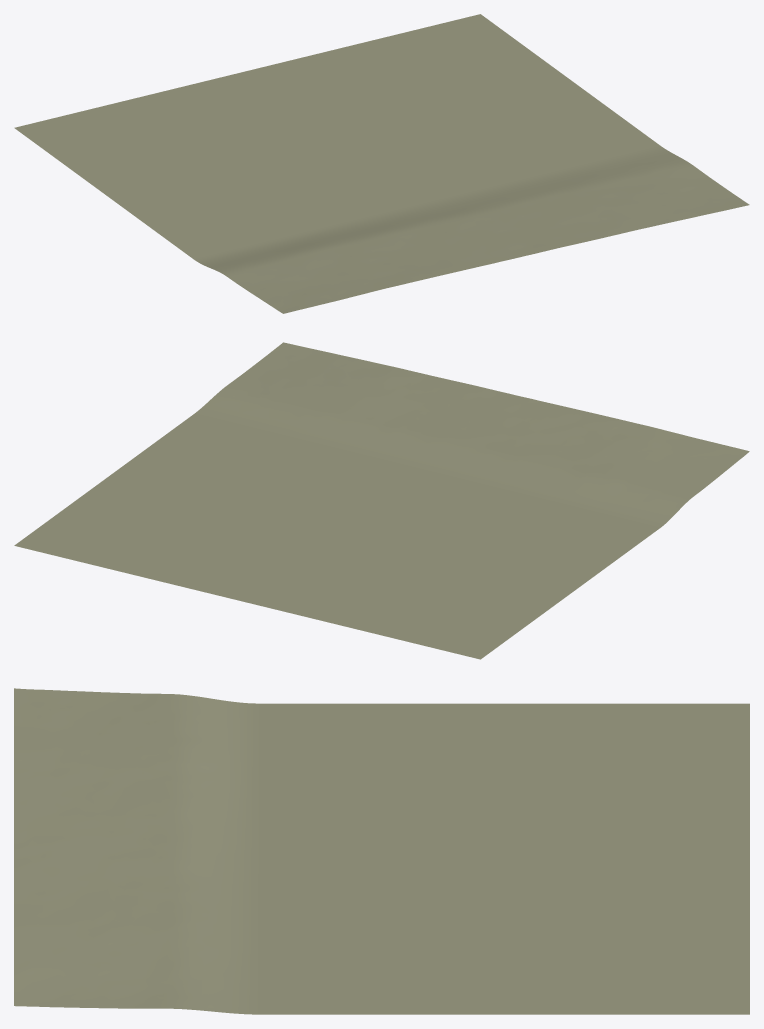
File: SM_VB_CityTerrain_10_3.fbx
3 views of the same model, one above another, from view 1: azimuth 30°, elevation 25°; view 2: azimuth 150°, elevation 25°; view 3: azimuth 270°, elevation 25° (orthographic). The views are drawn at different scales.
Parts seen in each view (by area): view 1: SM_VB_CityTerrain_10_3; view 2: SM_VB_CityTerrain_10_3; view 3: SM_VB_CityTerrain_10_3.
Part boxes in pixels (x1,y1,x2,y2): SM_VB_CityTerrain_10_3: (14,14,749,313); SM_VB_CityTerrain_10_3: (14,342,749,659); SM_VB_CityTerrain_10_3: (14,688,749,1014).
Size of the model in its own units: 600 by 14.18 by 600.
